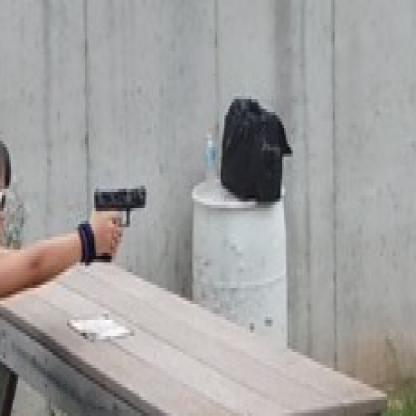gun: (76, 160, 154, 278)
